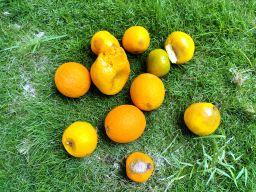orange: (89, 48, 131, 96), (105, 104, 146, 144), (54, 61, 91, 99), (62, 120, 99, 158), (129, 73, 166, 111), (183, 101, 221, 136), (163, 30, 195, 65), (125, 151, 155, 182), (121, 25, 150, 55), (90, 29, 121, 57), (147, 49, 171, 77)
